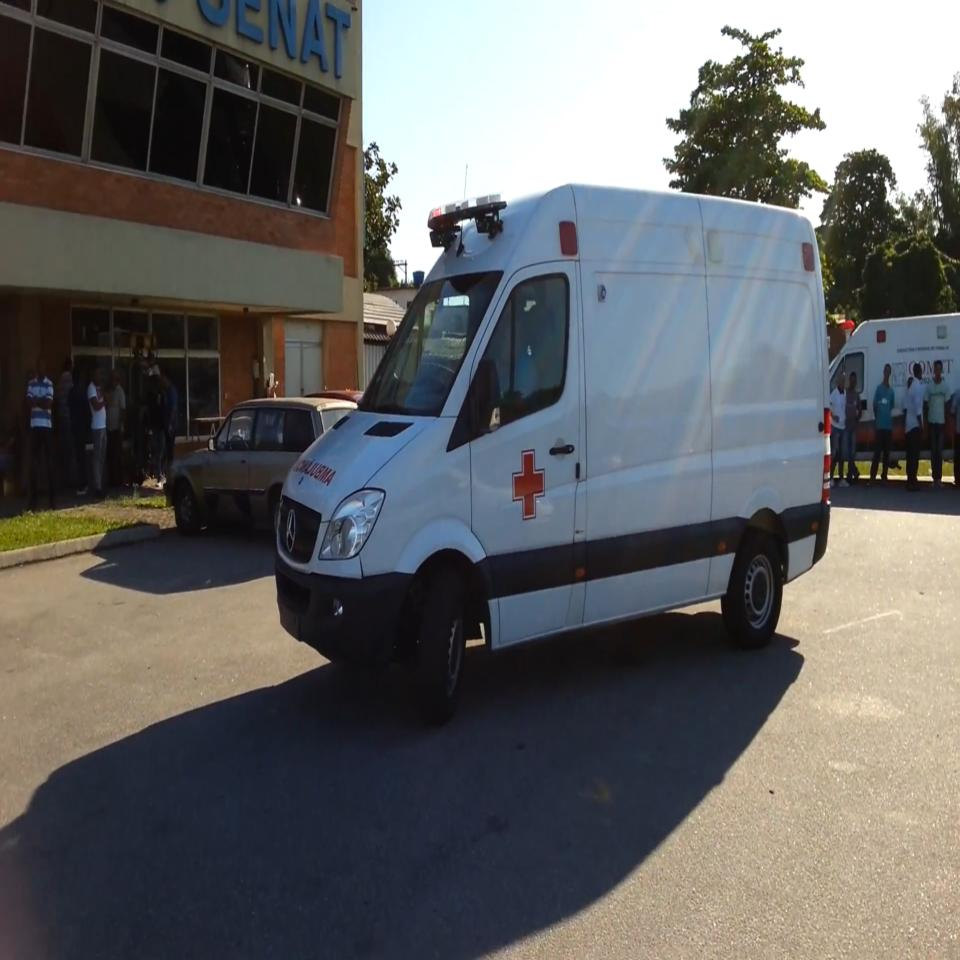bombeiro: (272, 181, 838, 719)
